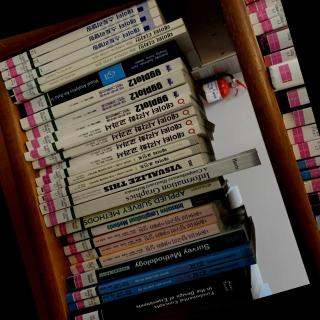book-spine: (42, 150, 260, 227), (6, 18, 183, 96), (10, 25, 186, 103), (15, 41, 178, 118), (18, 57, 183, 129), (0, 7, 160, 80), (2, 16, 162, 89), (24, 70, 185, 142), (65, 228, 247, 291), (25, 83, 191, 151), (23, 94, 191, 161), (0, 0, 157, 71), (68, 256, 256, 312), (65, 247, 252, 303), (30, 106, 195, 169), (38, 153, 203, 216), (34, 125, 200, 187), (53, 177, 221, 237), (37, 144, 201, 204), (35, 135, 198, 195), (37, 116, 197, 177), (59, 188, 225, 246), (66, 270, 250, 320), (62, 204, 213, 256), (69, 223, 219, 275), (67, 213, 216, 265)
